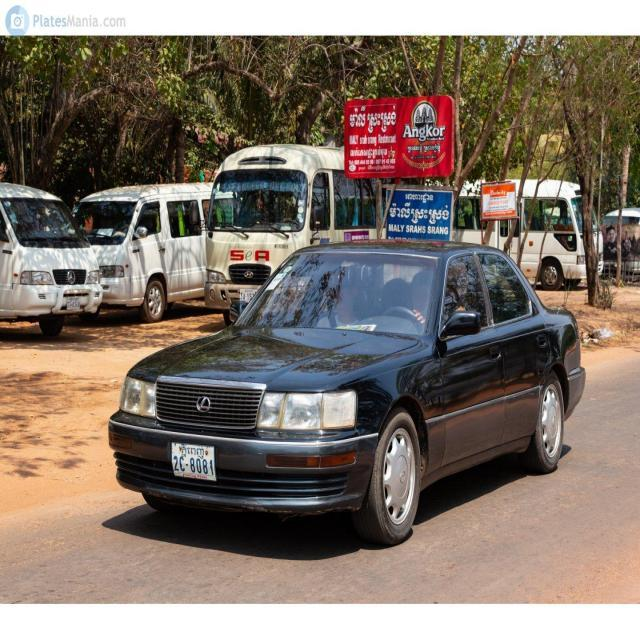Phnom_Penh: (181, 445, 206, 459)
